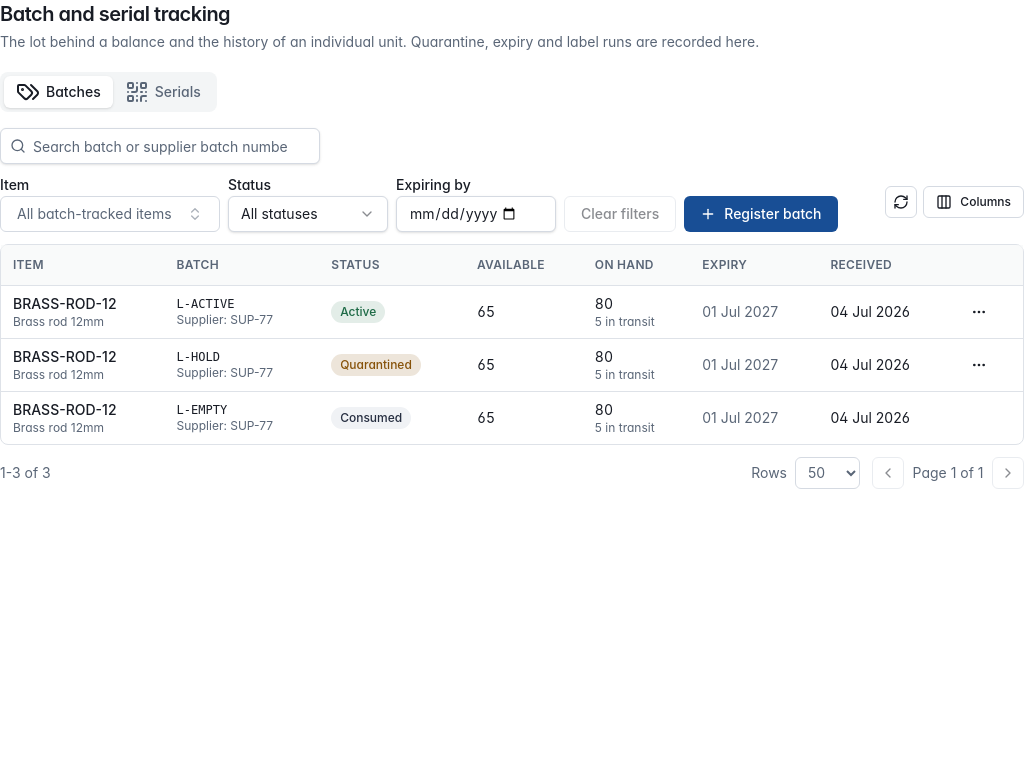
Test: batch tracking › offers only the lifecycle edges a lot status has, and records a reason
Expected: the text "L-ACTIVE" is shown, [177,296,234,310]
Click the button named "actions for batch L-ACTIVE" at (979, 312), box [963,296,995,328]
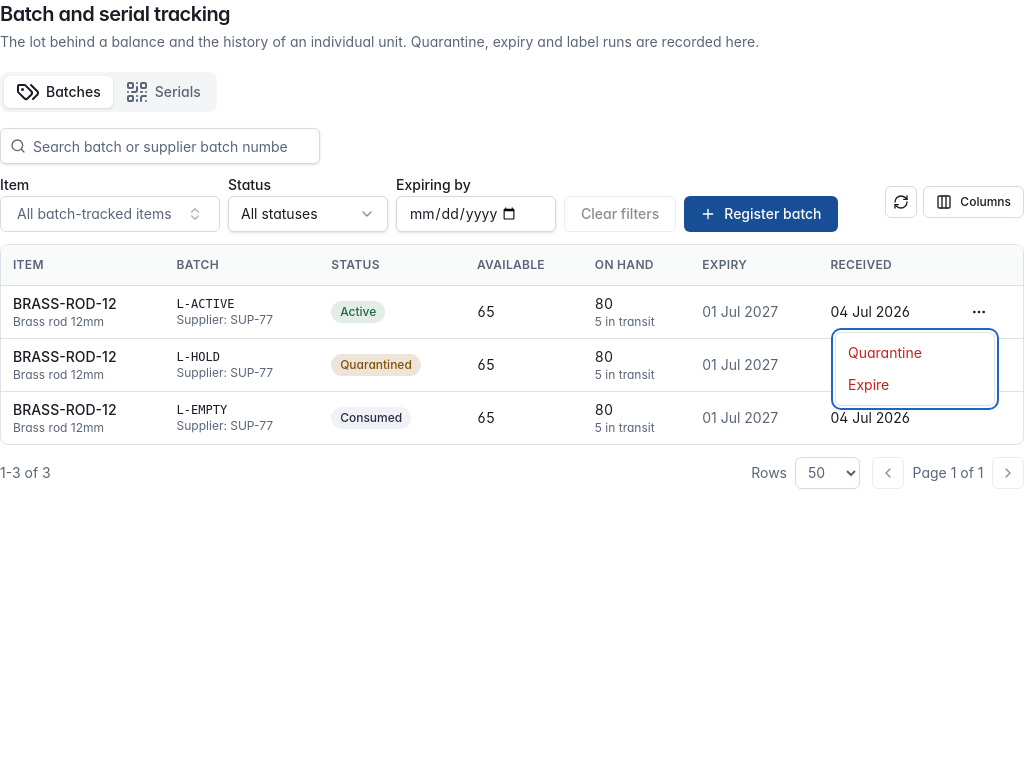
Expected: the menu item "Quarantine" is shown
Expected: the menu item "Expire" is shown, [848,376,889,393]
Click the menu item "Quarantine" at (885, 352), box [848,344,922,361]
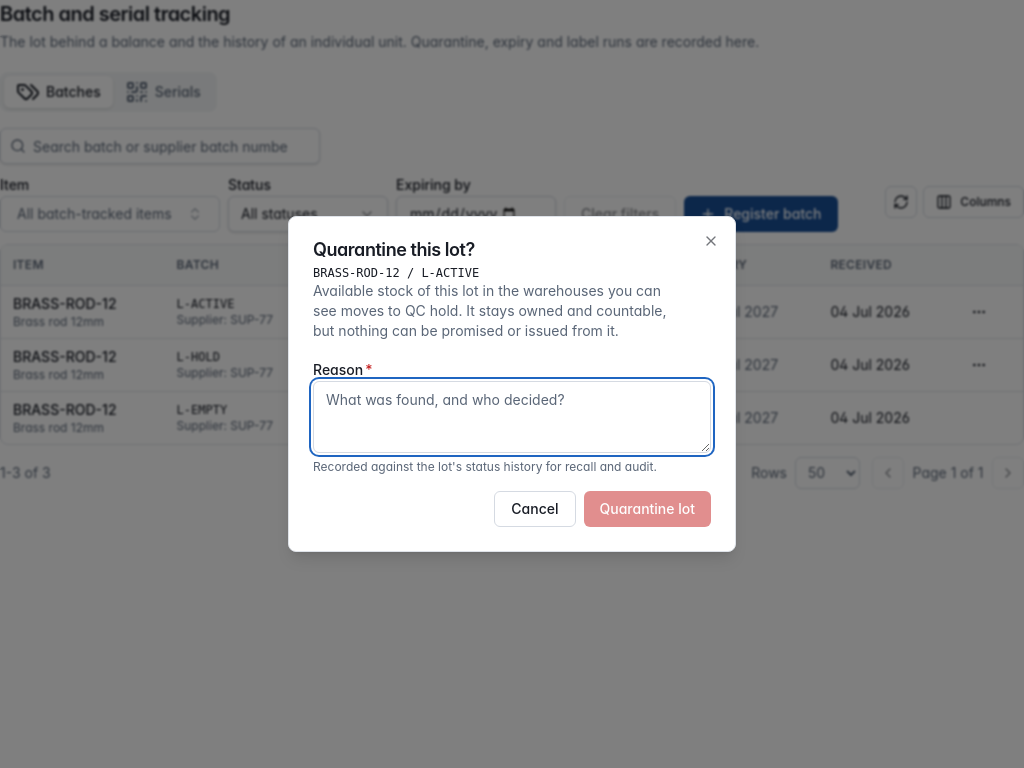
Expected: the text "moves to QC hold" is shown, [313,282,666,339]
Type "Damaged seal found at goods-in" into the text box labelled "Reason*" at (512, 417), box [313,381,711,453]
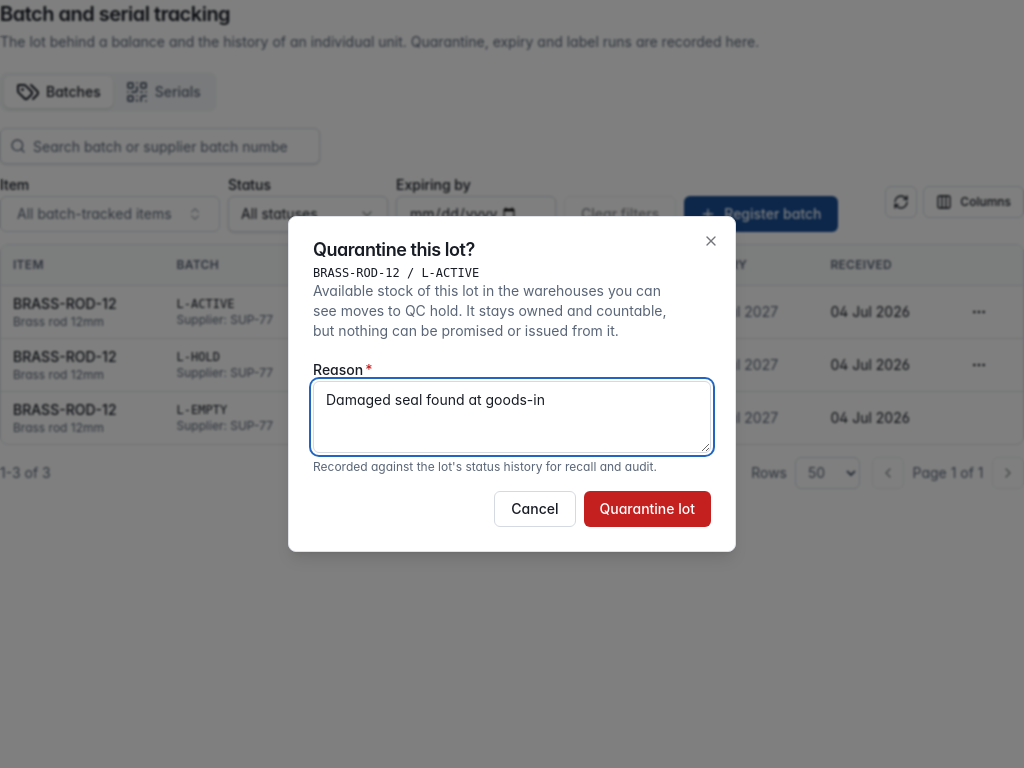
Click the button "Quarantine lot" at (647, 509), box [584,491,711,527]
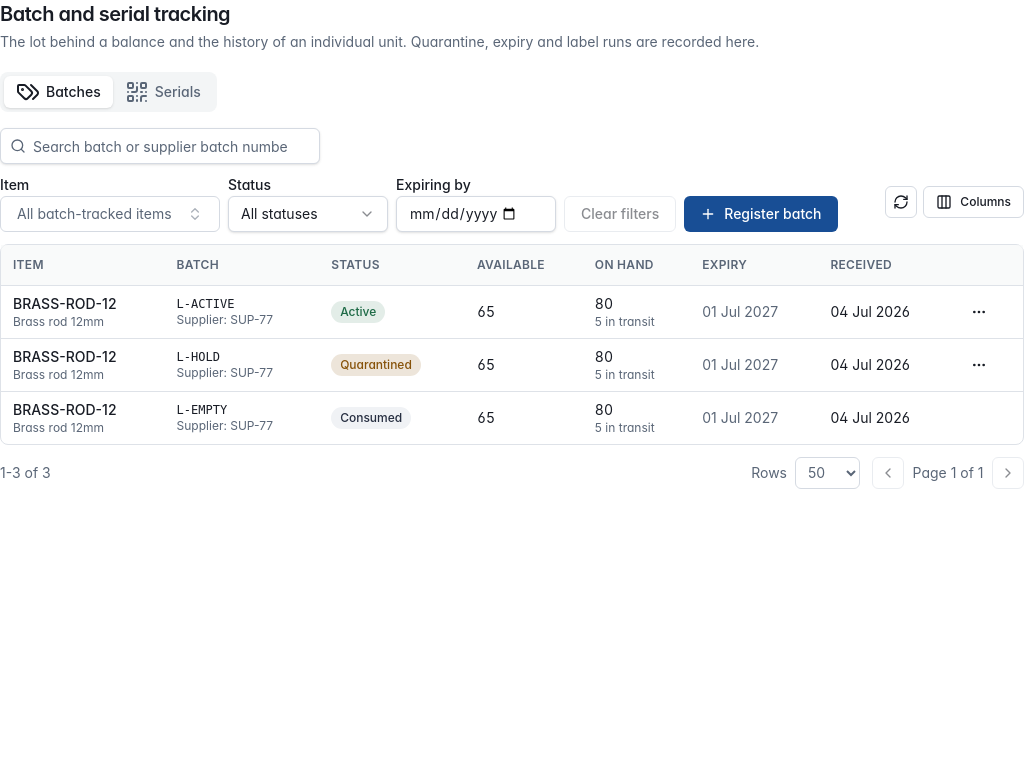
Expected: the dialog is gone
